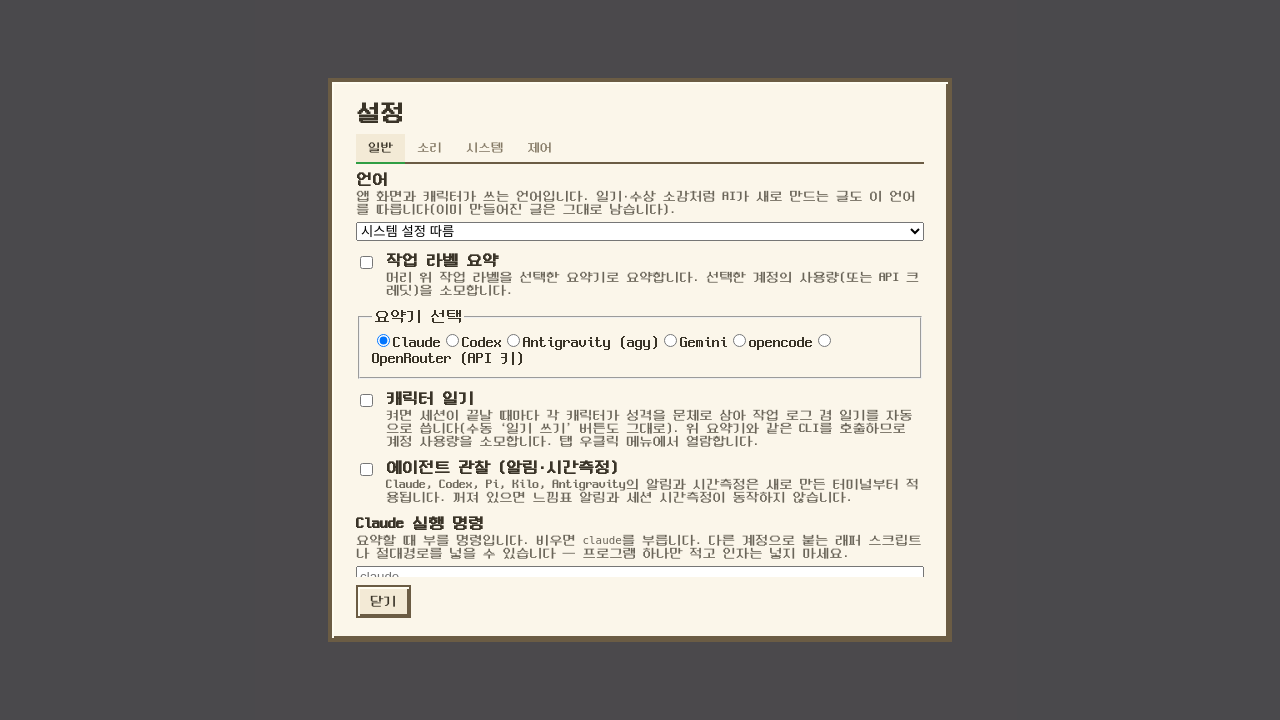
Scenario: MascotLightsSection › 마스코트가 꺼져 있으면 모드·세로·폴더 편집 컨트롤이 모두 비활성이다
What coordinates should you click on to do the following:
click the tab "시스템"
I would click on:
 (485, 149)
Its box is 454,134 -> 515,164.
(page scrolled)
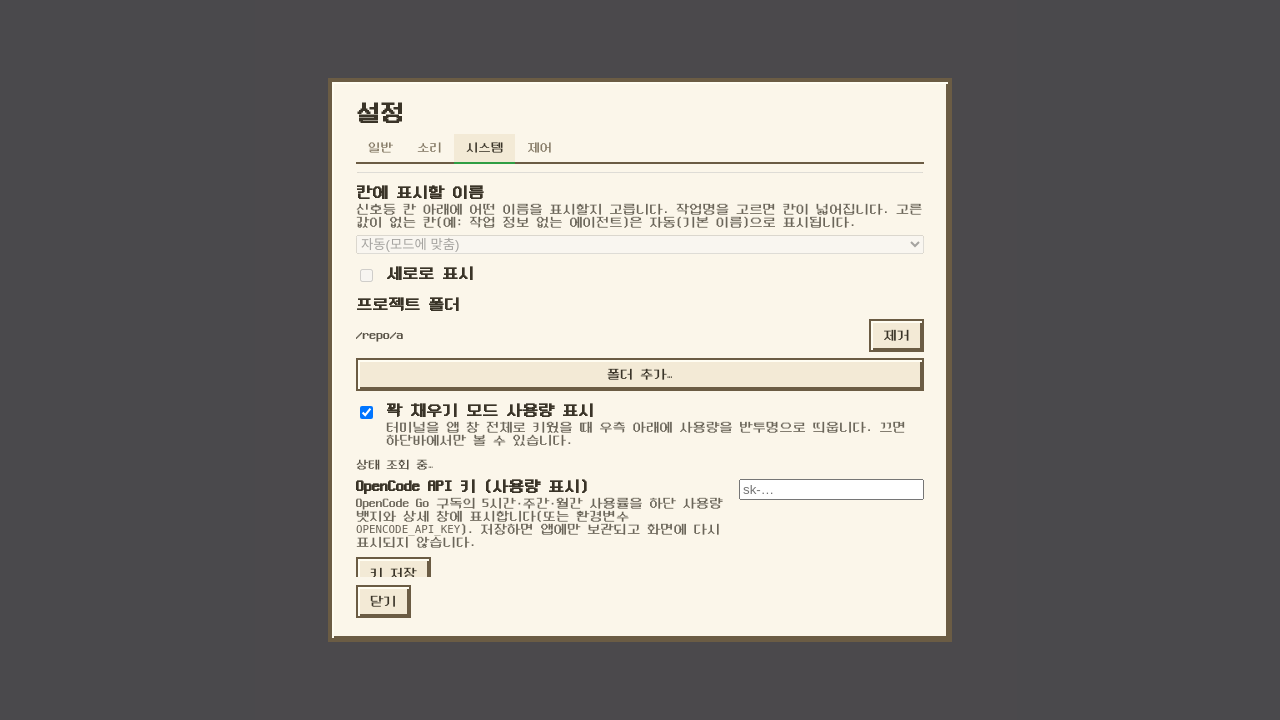
Now the dropdown labelled "칸에 표시할 이름" is disabled, box 356,235 -> 924,254
Now the checkbox labelled "세로로 표시" is disabled, box 360,269 -> 373,282
Now the button "제거" is disabled, box 869,319 -> 924,352
